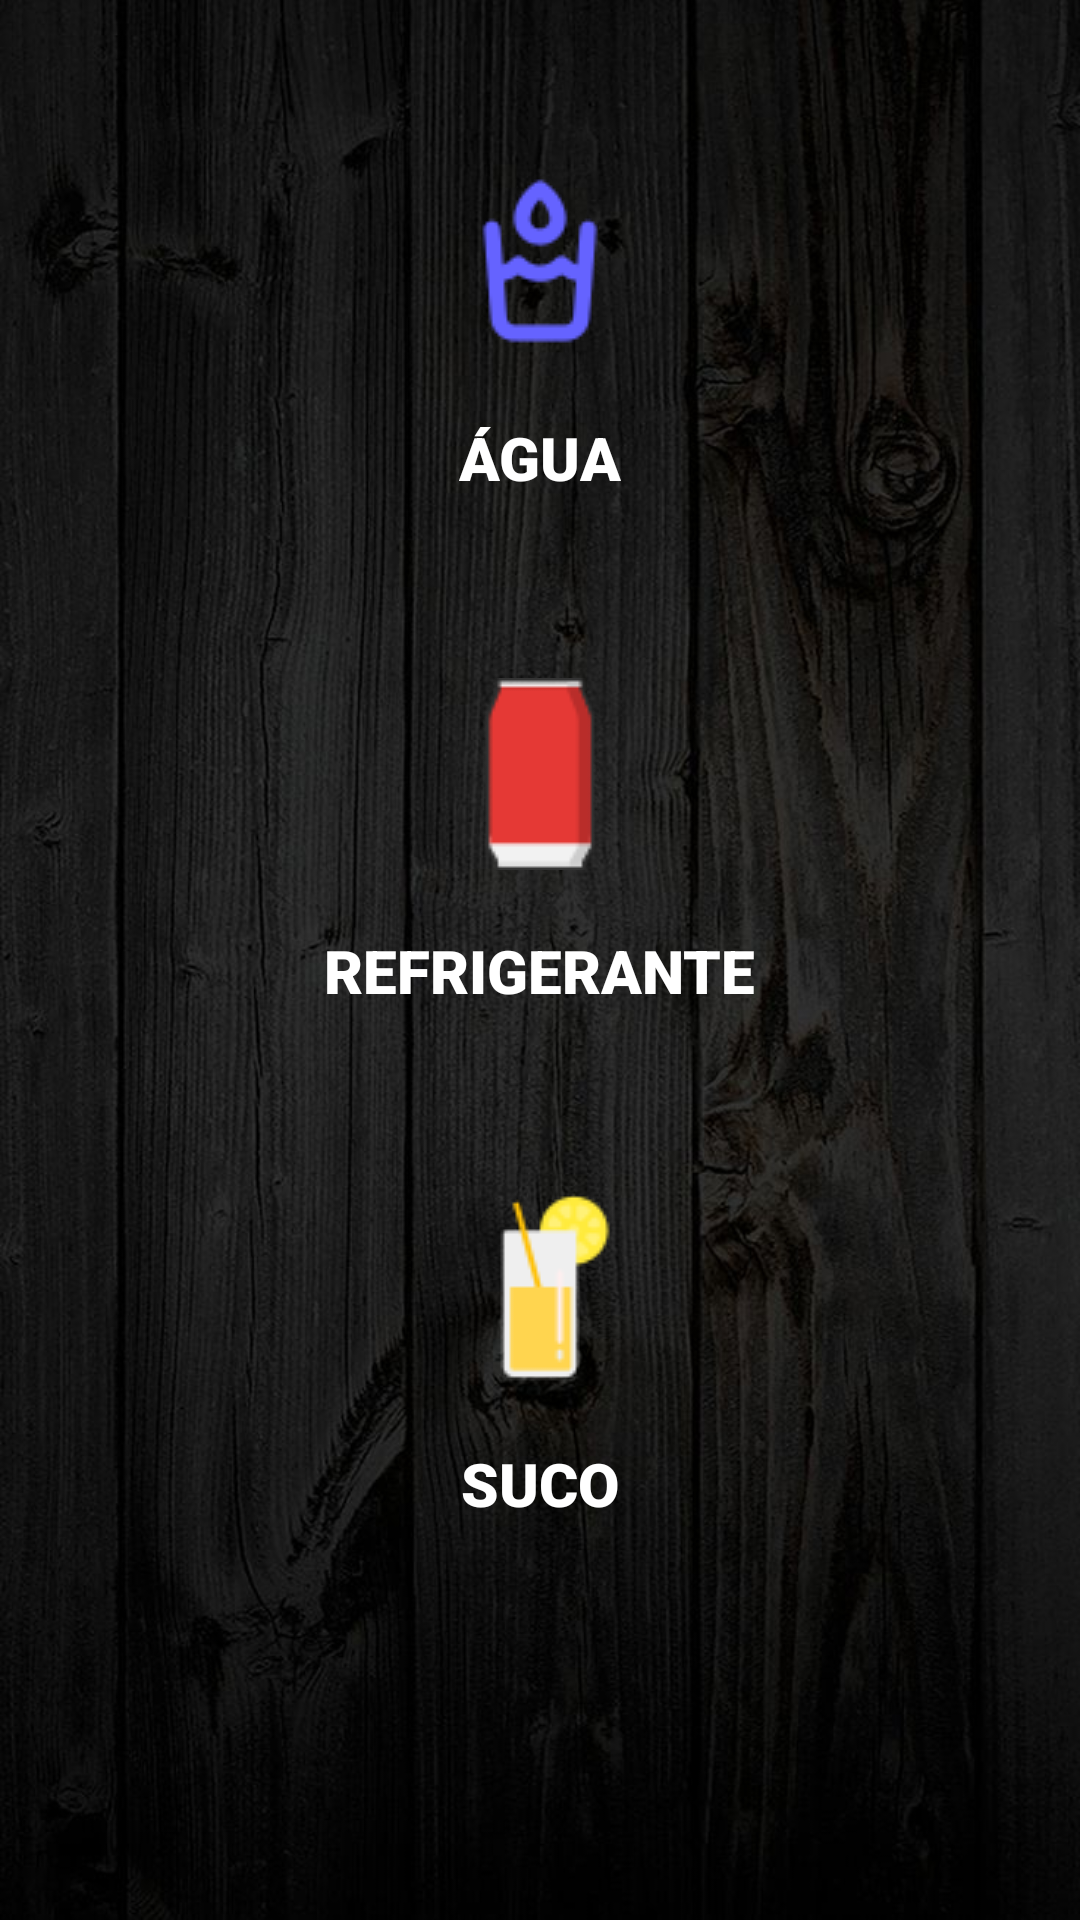

Named icons in this screenshot (1080 x 1920) and their bounding boxes, Rect(x1, y1, x2, y2):
icagua: Rect(448, 170, 622, 343)
iccola: Rect(487, 680, 592, 868)
icjuice: Rect(452, 1195, 610, 1383)
